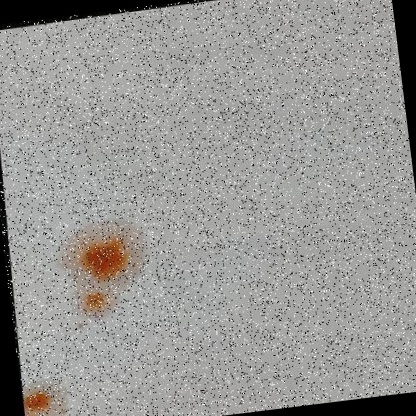kimchi: (65, 224, 136, 316), (21, 387, 62, 416)
